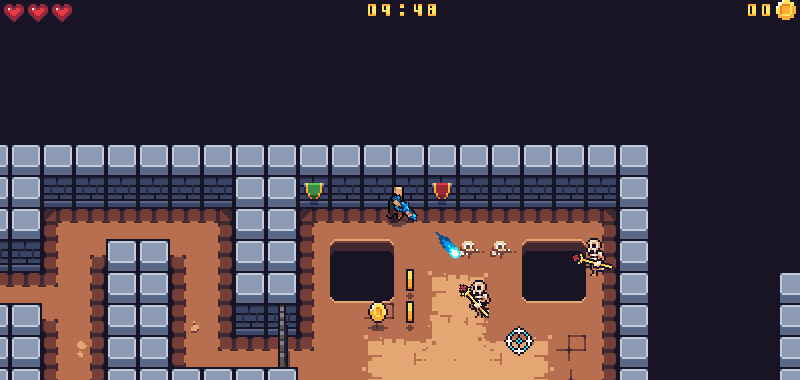enemy_skeleton: (456, 275, 493, 320), (573, 236, 614, 276)
gold: (367, 299, 389, 326), (403, 264, 419, 294), (403, 297, 417, 325)
trap_door: (273, 294, 294, 376)
